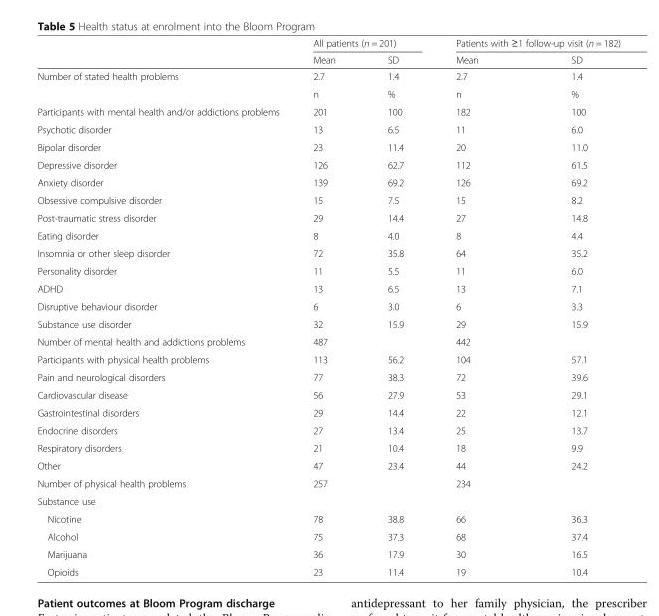table: (36, 36, 619, 577)
table column: (36, 36, 295, 577), (429, 36, 524, 577), (524, 36, 619, 577), (360, 36, 429, 577), (295, 36, 360, 577)
table column header: (36, 36, 619, 67)
table projected row header: (36, 492, 619, 509)
table row: (36, 84, 619, 102), (36, 102, 619, 120), (36, 137, 619, 155), (36, 155, 619, 173), (36, 173, 619, 191), (36, 208, 619, 226), (36, 226, 619, 244), (36, 261, 619, 279), (36, 279, 619, 297), (36, 314, 619, 332), (36, 332, 619, 350), (36, 350, 619, 368), (36, 385, 619, 403), (36, 403, 619, 421), (36, 438, 619, 456), (36, 456, 619, 474), (36, 474, 619, 492), (36, 509, 619, 527), (36, 527, 619, 545), (36, 67, 619, 84), (36, 120, 619, 137), (36, 191, 619, 208), (36, 244, 619, 261), (36, 297, 619, 314), (36, 368, 619, 385), (36, 421, 619, 438), (36, 492, 619, 509), (36, 545, 619, 562), (36, 51, 619, 67), (36, 36, 619, 51), (36, 562, 619, 577)
table spanning cell: (36, 67, 295, 102), (429, 36, 619, 51), (295, 36, 429, 51)
